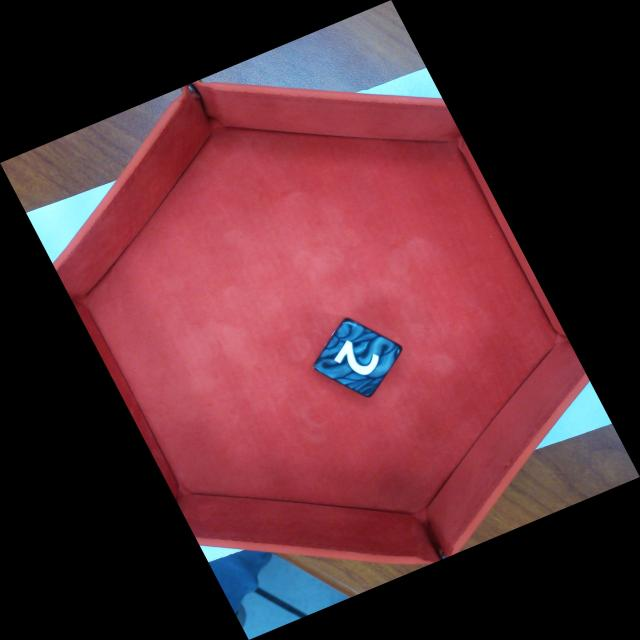dice: (312, 317, 405, 399)
